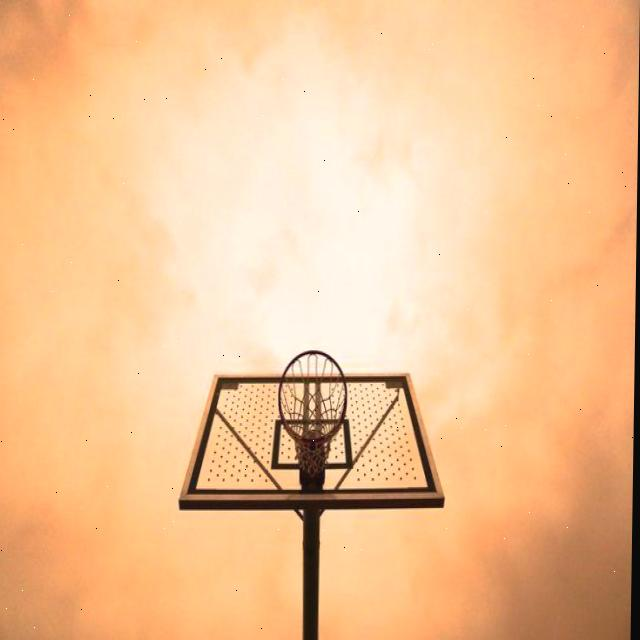hoop: (261, 338, 361, 488)
